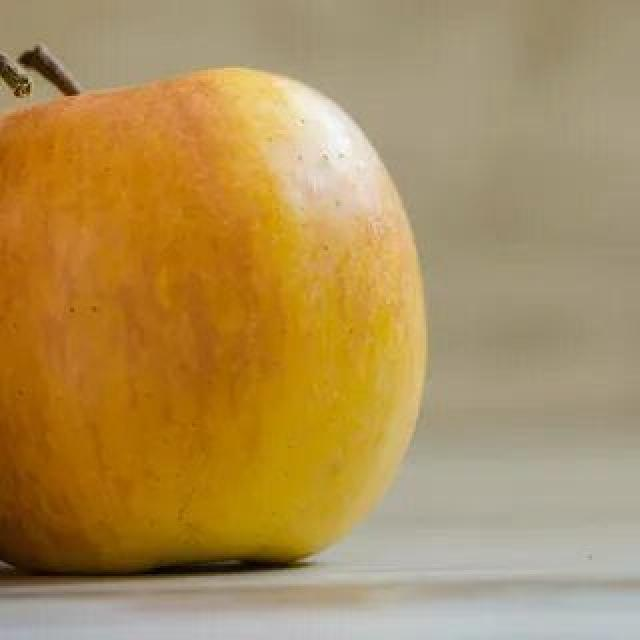Fresh Apple: (0, 60, 411, 575)
